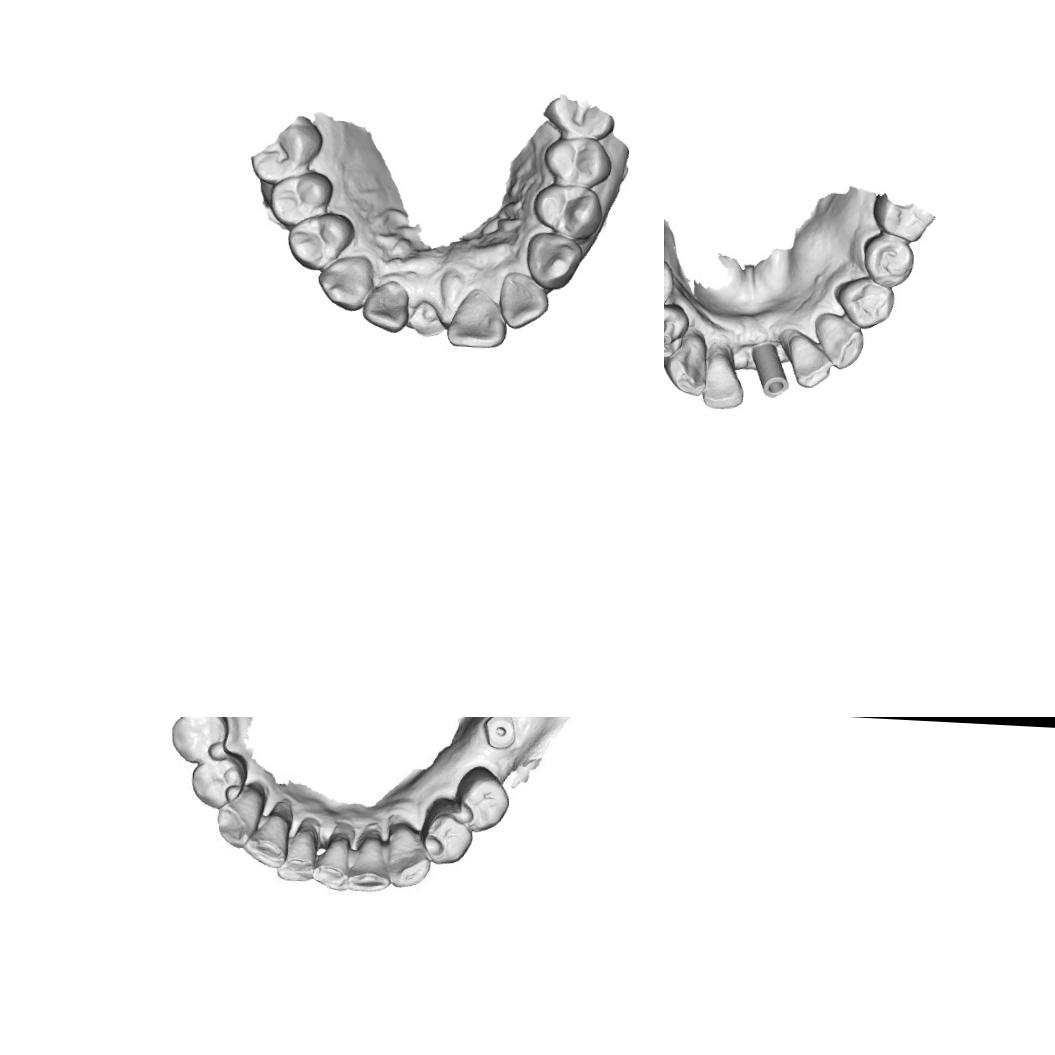canine: (313, 252, 376, 313), (832, 272, 896, 330), (523, 228, 581, 291), (213, 782, 265, 852), (664, 327, 708, 396), (384, 822, 430, 888)
implant: (748, 340, 792, 398), (477, 717, 521, 749)
incisor: (444, 287, 508, 350), (775, 326, 835, 388), (810, 310, 865, 371), (346, 824, 390, 900), (700, 338, 746, 410), (498, 268, 550, 331), (358, 277, 414, 335), (276, 815, 318, 885), (248, 800, 291, 866), (312, 822, 352, 892)
premolar: (284, 207, 355, 272), (532, 182, 606, 242), (539, 134, 612, 190), (266, 168, 334, 228), (416, 801, 472, 865), (454, 766, 510, 828), (870, 192, 936, 244), (860, 230, 915, 289), (162, 717, 231, 764), (184, 755, 244, 805), (664, 300, 690, 359)
